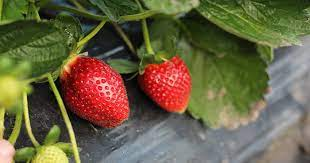ripe: (60, 50, 133, 135), (138, 56, 193, 121)
